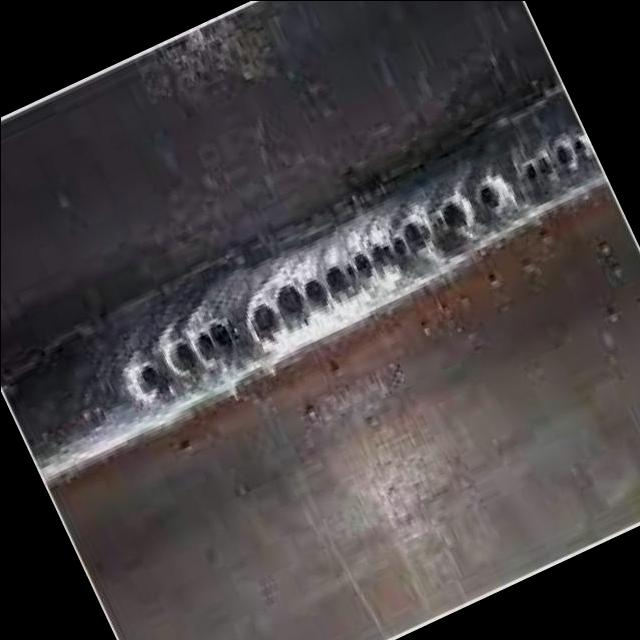defect: (242, 208, 435, 349), (127, 310, 240, 404), (518, 130, 589, 186), (441, 190, 482, 237), (473, 165, 510, 216)
